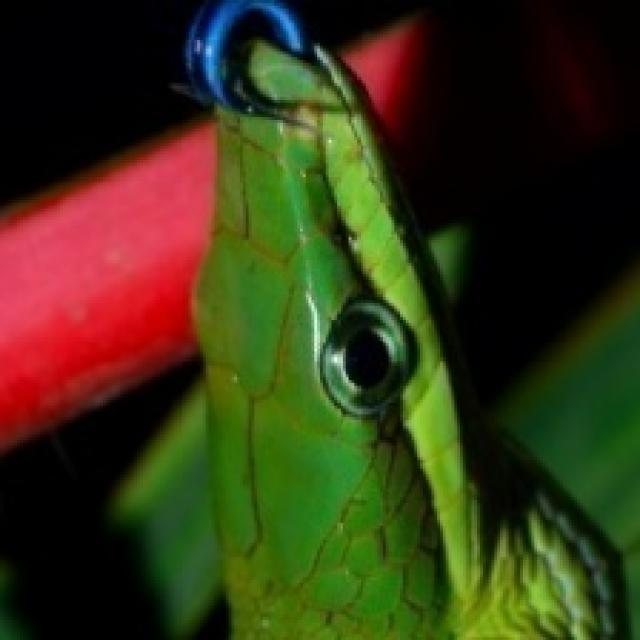red-tailed green ratsnake: (186, 0, 626, 637)
